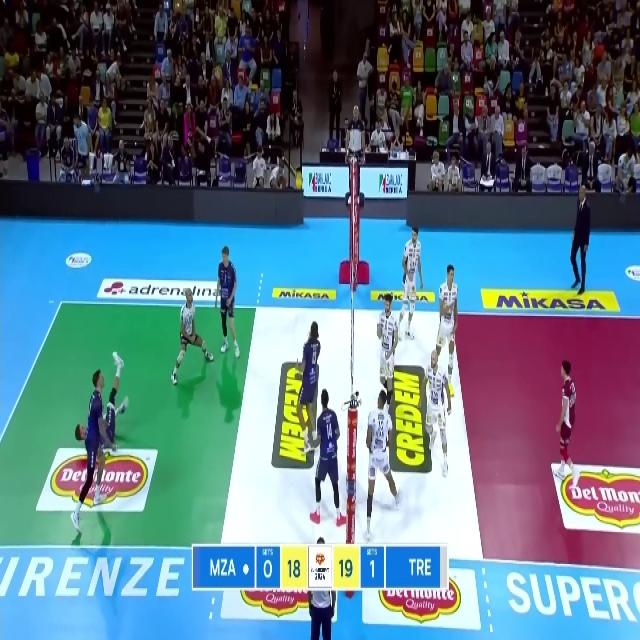volleyball court: (1, 303, 640, 571)
